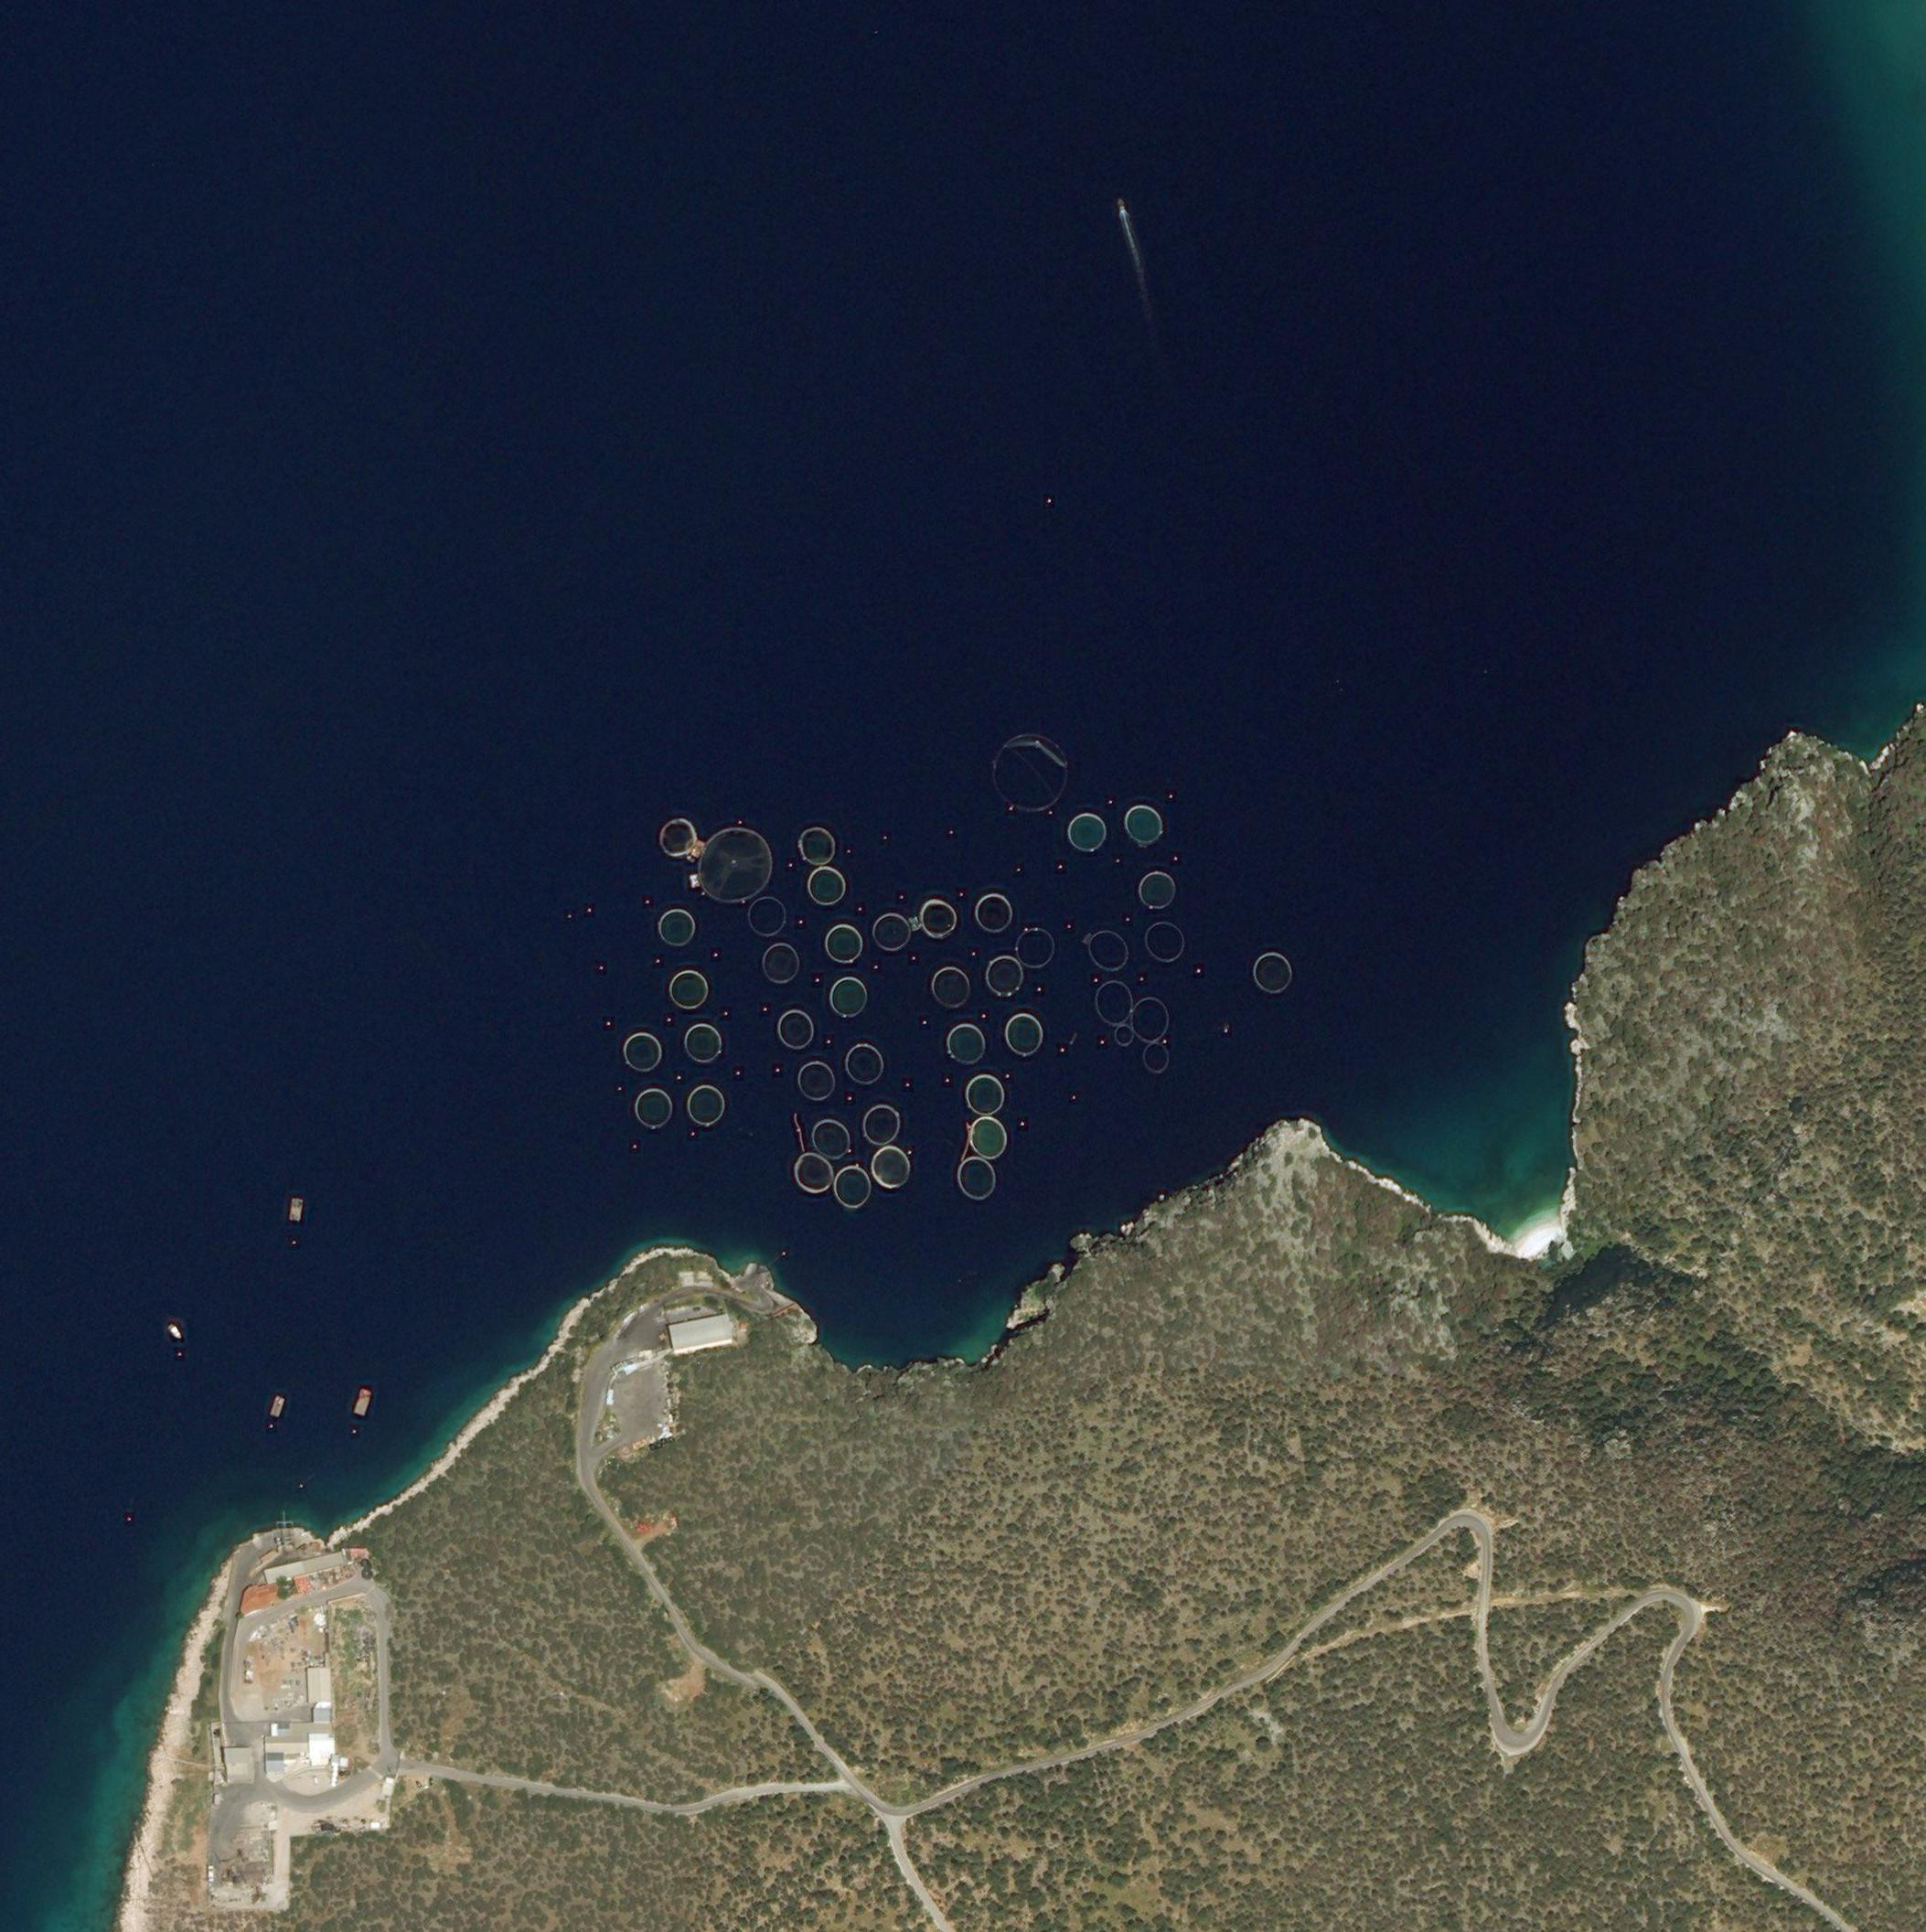c: (991, 732, 1071, 813), (697, 827, 773, 903), (928, 964, 972, 1008), (968, 1114, 1009, 1160), (870, 1144, 910, 1188), (1004, 1014, 1044, 1058), (1088, 929, 1129, 973), (1252, 950, 1293, 994), (760, 941, 801, 984), (776, 1008, 817, 1051), (633, 1088, 674, 1130), (811, 1118, 852, 1160), (861, 1103, 903, 1144), (963, 1074, 1005, 1114), (1014, 927, 1055, 970), (1145, 922, 1187, 962), (829, 975, 868, 1019), (1095, 982, 1134, 1026), (1132, 998, 1169, 1044), (806, 866, 847, 906), (623, 1031, 663, 1072), (683, 1022, 723, 1063), (945, 1024, 986, 1065), (1123, 804, 1164, 844), (686, 1084, 725, 1126), (832, 1167, 871, 1209), (956, 1158, 995, 1200), (656, 908, 697, 947), (748, 895, 787, 936), (822, 924, 862, 962), (845, 1044, 884, 1084), (974, 894, 1014, 933), (984, 955, 1023, 996), (658, 818, 697, 857), (668, 970, 707, 1008), (794, 1153, 832, 1192), (797, 1061, 834, 1102), (799, 825, 834, 867), (873, 913, 912, 950), (1139, 871, 1176, 910), (1069, 813, 1106, 851), (921, 899, 954, 938), (1143, 1042, 1171, 1074), (1116, 1024, 1134, 1047)
